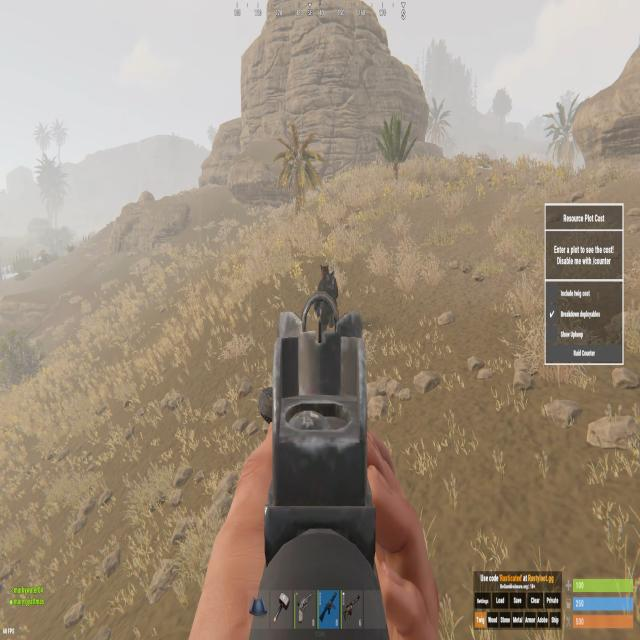Player: (313, 263, 338, 334)
